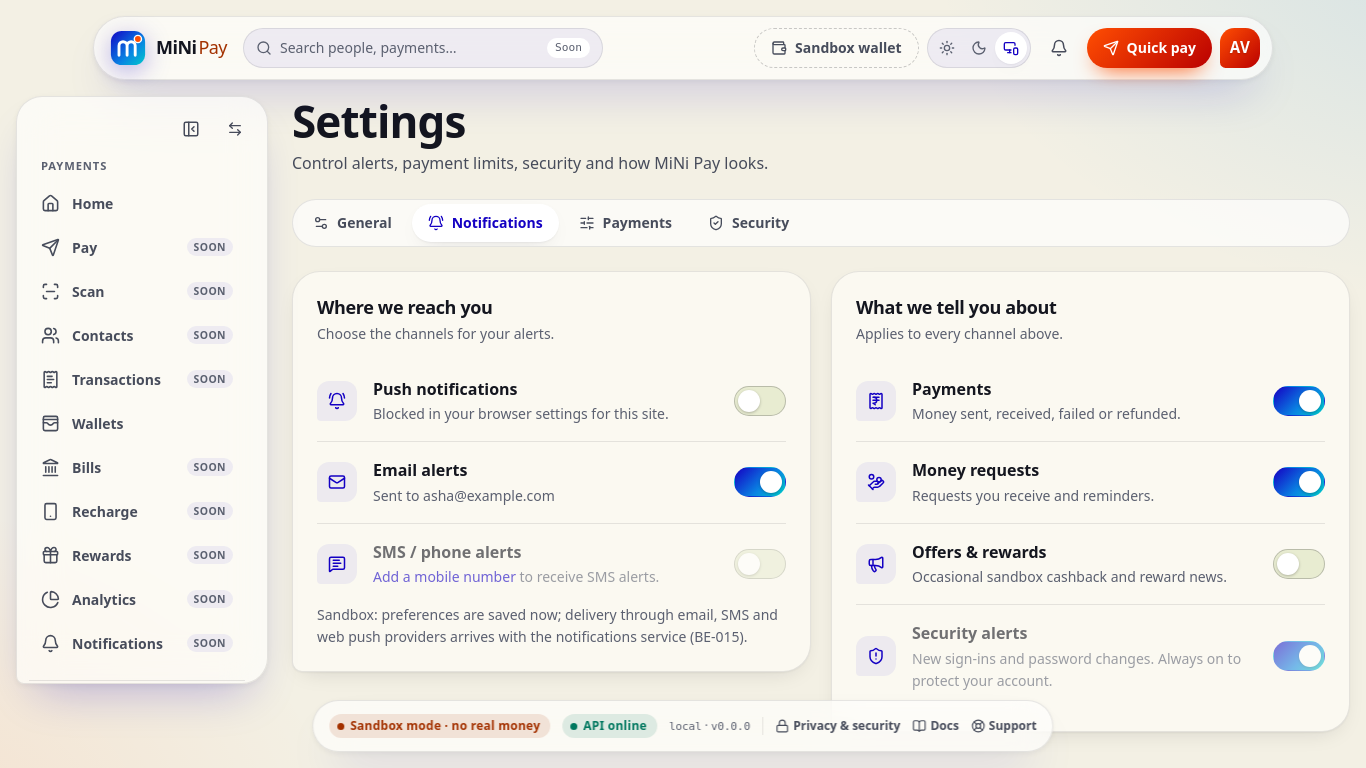
Test case: notification settings › saves a channel toggle
Click the switch named "Email alerts" in the row of "Sent to asha@example.com": (760, 482) [734,467,786,497]
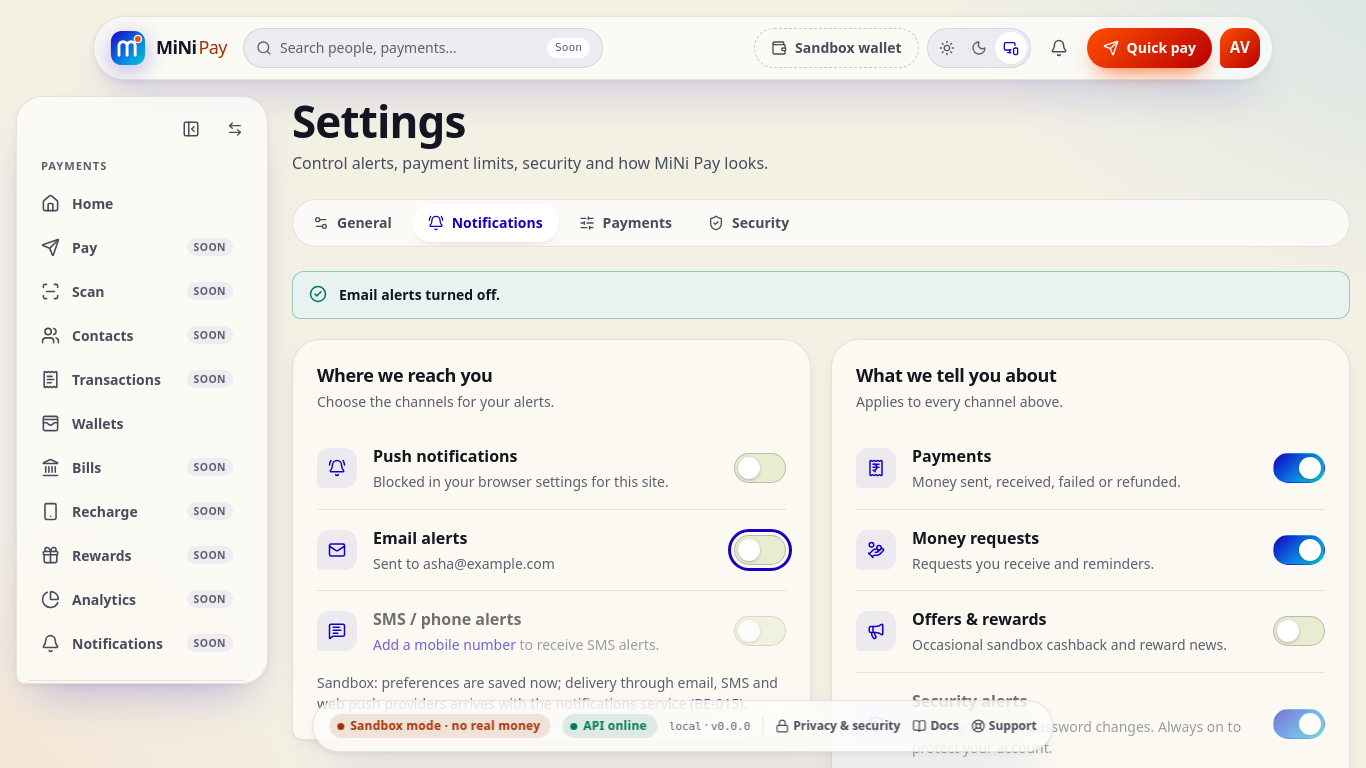
Now the text "Email alerts turned off." is shown, box [339,284,500,306]
